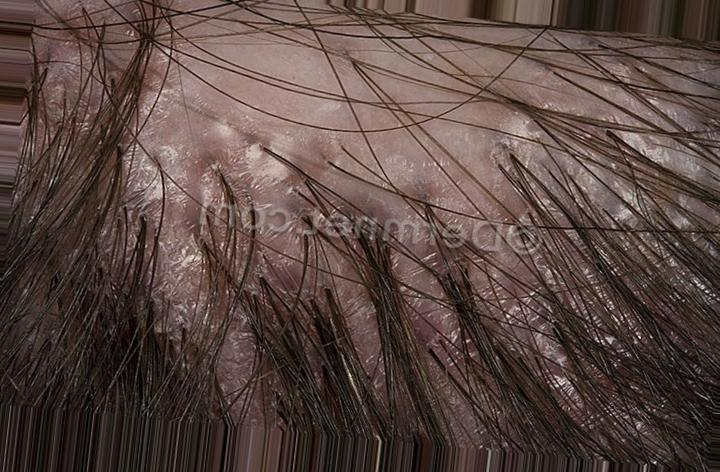Alopecia Areata: (132, 41, 585, 119)
Folliculitis: (187, 128, 321, 190)
